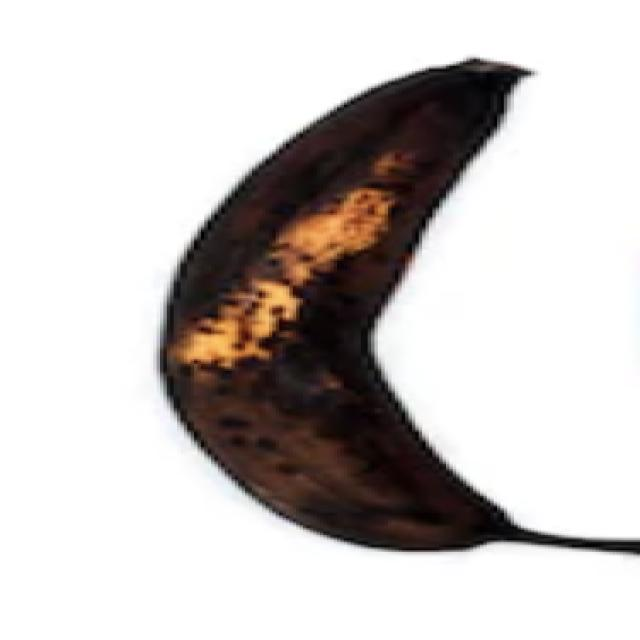rotten-banana: (141, 51, 640, 552)
